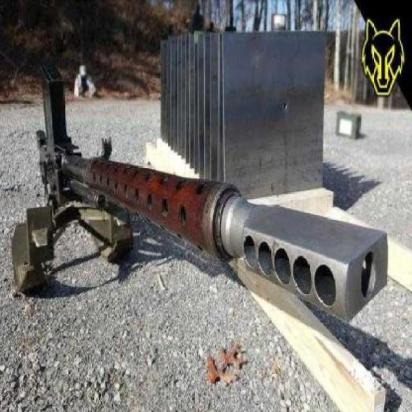Gun: (38, 66, 385, 324)
